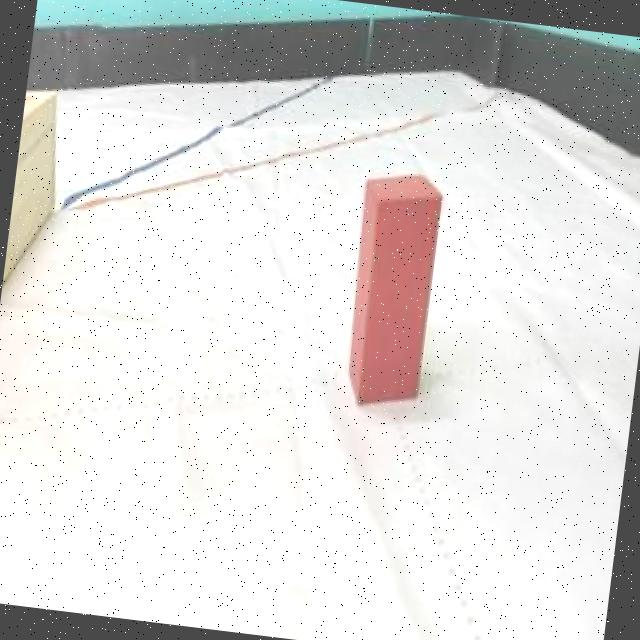redbox: (336, 166, 446, 416)
